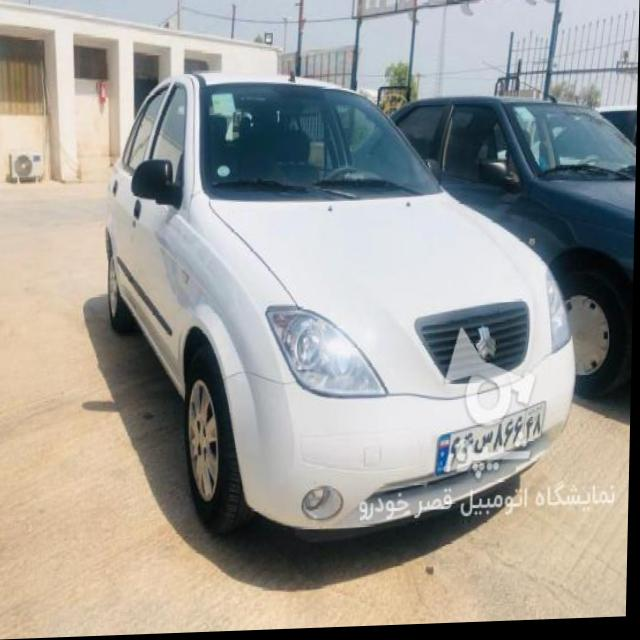licence: (438, 401, 545, 476)
